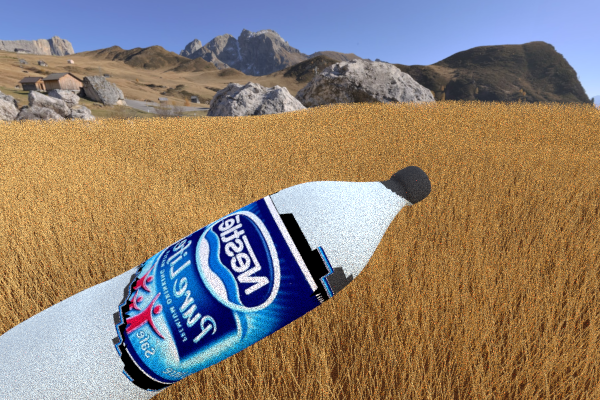bottle: (0, 165, 431, 400)
can: (356, 111, 381, 137)
